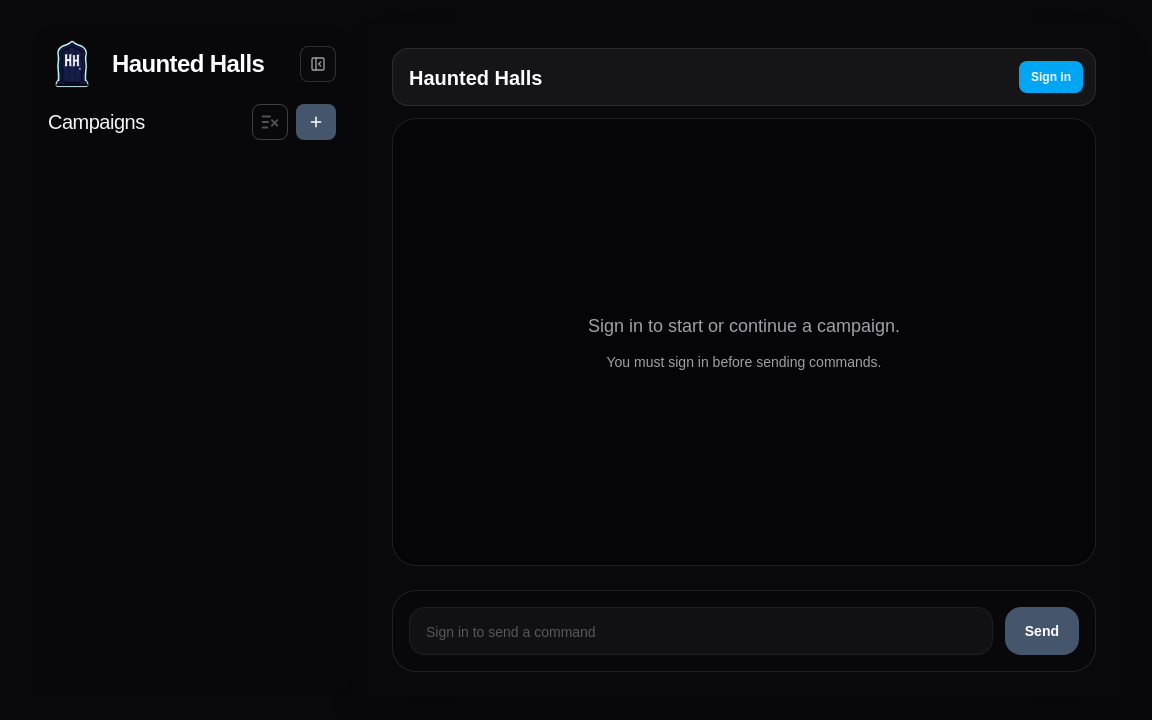
home auth gating › shows a safe error when no provider is advertised
This screenshot has width=1152, height=720.
Click the button "Sign in" at (1051, 77), box [1019,61,1083,93]
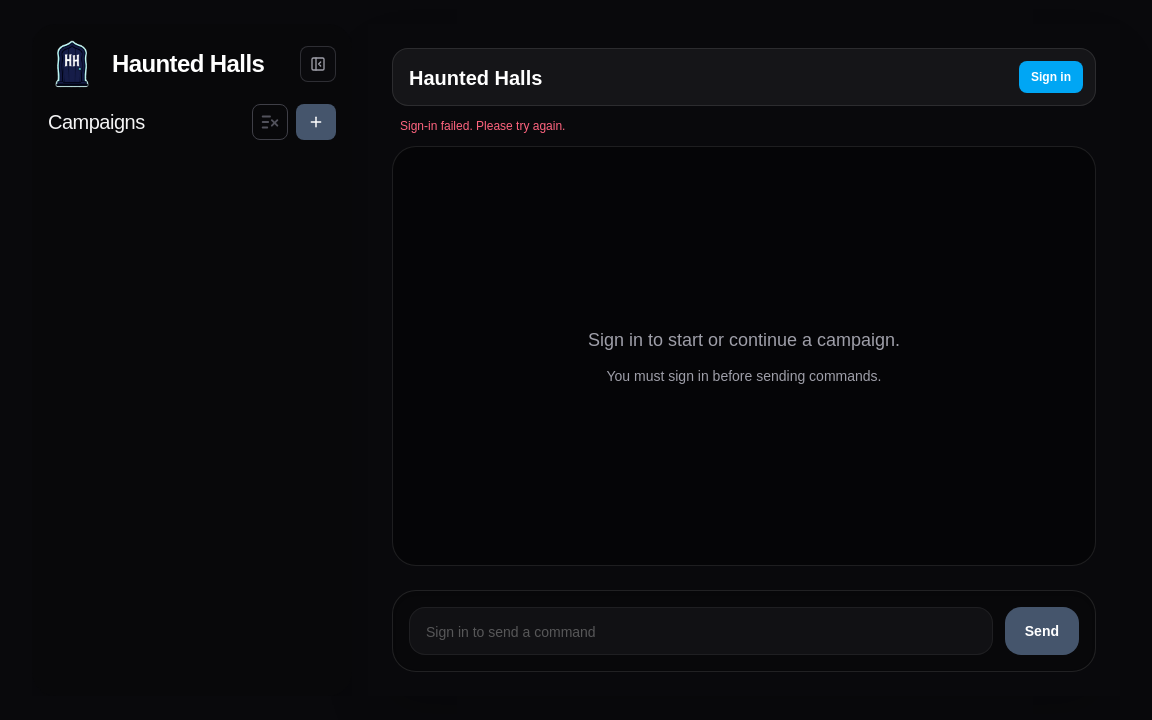
Result: the text "Sign-in failed. Please try again." is shown at [400,119,565,133]
